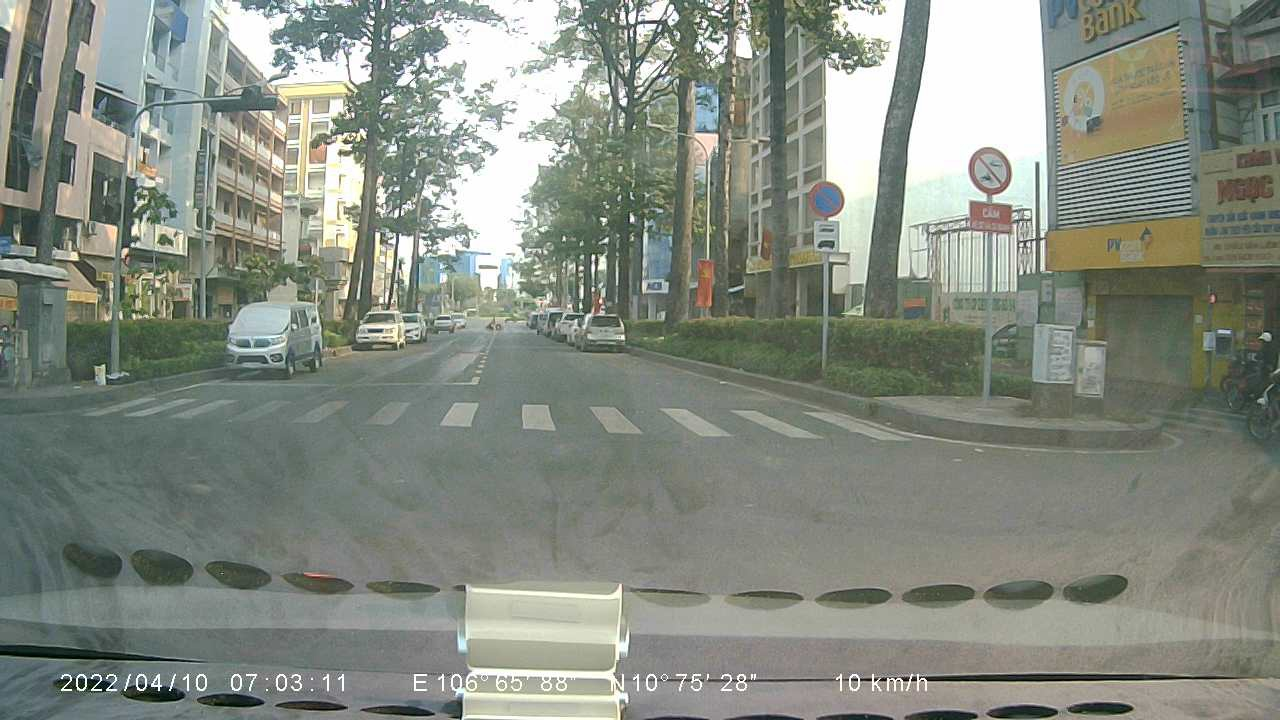Bien khac: (967, 142, 1015, 196)
Cam do xe: (806, 174, 844, 216)
